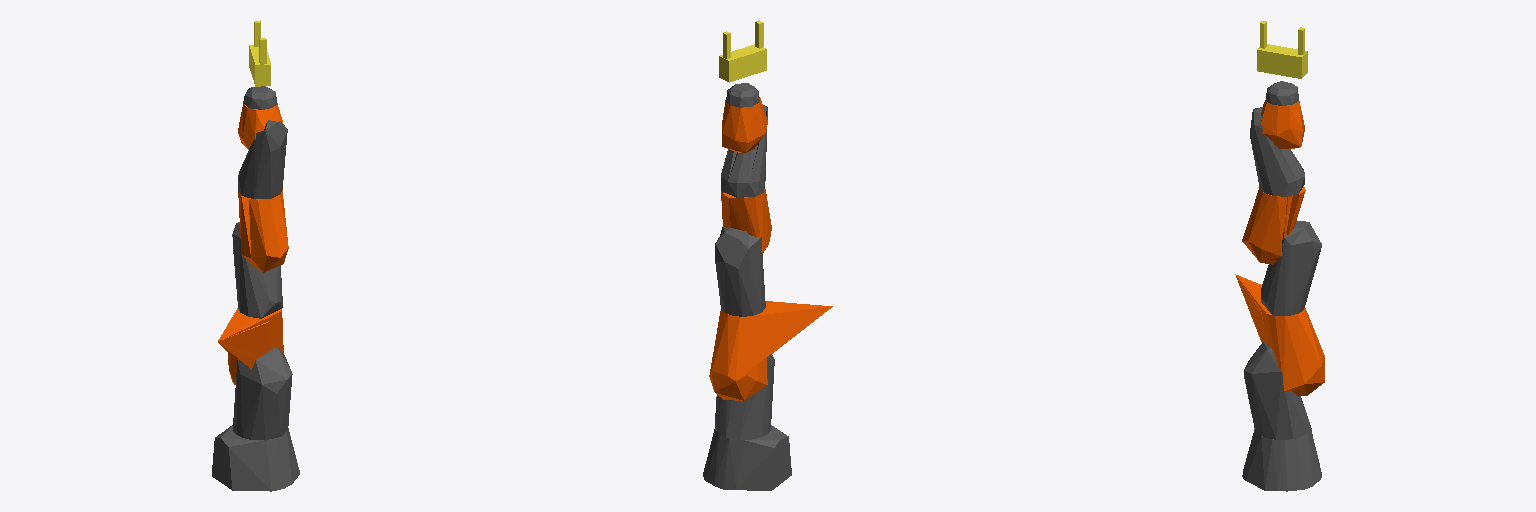
URDF robot description (iiwa14):
<?xml version="1.0" ?>
<!-- =================================================================================== -->
<!-- |    This model is a hand edited version of the original model (see               | -->
<!-- |    iiwa14_primitive_collision.urdf).                                            | -->
<!-- =================================================================================== -->
<!-- ===================================================================== -->
<!-- Collision models: complex meshes can drastically affect run time.
     Therefore some collision models are represented as simple spheres
     instead of meshes. However it's important to have accurate collision
     models for the end of the arm because we anticipate that the end is the
     most likely part of the arm to make contact.
-->
<!-- ===================================================================== -->
<robot name="iiwa14" xmlns:xacro="http://www.ros.org/wiki/xacro">
  <!-- Import Rviz colors -->
  <material name="Black">
    <color rgba="0.0 0.0 0.0 1.0"/>
  </material>
  <material name="Blue">
    <color rgba="0.0 0.0 0.8 1.0"/>
  </material>
  <material name="Green">
    <color rgba="0.0 0.8 0.0 1.0"/>
  </material>
  <material name="Grey">
    <color rgba="0.4 0.4 0.4 1.0"/>
  </material>
  <material name="Orange">
    <color rgba="1.0 0.423529411765 0.0392156862745 1.0"/>
  </material>
  <material name="Brown">
    <color rgba="0.870588235294 0.811764705882 0.764705882353 1.0"/>
  </material>
  <material name="Red">
    <color rgba="0.8 0.0 0.0 1.0"/>
  </material>
  <material name="White">
    <color rgba="1.0 1.0 1.0 1.0"/>
  </material>
  <!-- Defines a base link that will serve as the model's root. -->
  <link name="base"/>
  <!--joint between {parent} and link_0-->
  <joint name="iiwa_base_joint" type="fixed">
    <origin rpy="0 0 0" xyz="0 0 0"/>
    <parent link="base"/>
    <child link="iiwa_link_0"/>
  </joint>
  <link name="iiwa_link_0">
    <inertial>
      <origin rpy="0 0 0" xyz="-0.1 0 0.07"/>
      <mass value="5"/>
      <inertia ixx="0.05" ixy="0" ixz="0" iyy="0.06" iyz="0" izz="0.03"/>
    </inertial>
    <visual>
      <origin rpy="0 0 0" xyz="0 0 0"/>
      <geometry>
        <mesh filename="../meshes/visual/link_0.obj"/>
      </geometry>
      <material name="Grey"/>
    </visual>
    <collision>
      <origin rpy="0 0 0" xyz="-0.015 0 0.07"/>
      <geometry>
        <cylinder length="0.17" radius="0.139"/>
      </geometry>
      <material name="Grey"/>
    </collision>
    <self_collision_checking>
      <origin rpy="0 0 0" xyz="0 0 0"/>
      <geometry>
        <capsule length="0.25" radius="0.15"/>
      </geometry>
    </self_collision_checking>
  </link>
  <!-- joint between link_0 and link_1 -->
  <joint name="iiwa_joint_1" type="revolute">
    <parent link="iiwa_link_0"/>
    <child link="iiwa_link_1"/>
    <origin rpy="0 0 0" xyz="0 0 0.1575"/>
    <axis xyz="0 0 1"/>
    <limit effort="300" lower="-2.96705972839" upper="2.96705972839" velocity="10"/>
    <safety_controller k_position="100" k_velocity="2" soft_lower_limit="-2.93215314335" soft_upper_limit="2.93215314335"/>
    <dynamics damping="0.5"/>
  </joint>
  <link name="iiwa_link_1">
    <inertial>
      <origin rpy="0 0 0" xyz="0 -0.03 0.12"/>
      <mass value="5.76"/>
      <inertia ixx="0.033" ixy="0" ixz="0" iyy="0.0333" iyz="0" izz="0.0123"/>
    </inertial>
    <visual>
      <origin rpy="0 0 0" xyz="0 0 0"/>
      <geometry>
        <mesh filename="../meshes/visual/link_1.obj"/>
      </geometry>
      <material name="Grey"/>
    </visual>
    <collision>
      <origin rpy="0 0 0" xyz="0 -0.03344534434 0.1974815417"/>
      <geometry>
        <sphere radius="0.07959901601"/>
      </geometry>
      <material name="Grey"/>
    </collision>
  </link>
  <!-- joint between link_1 and link_2 -->
  <joint name="iiwa_joint_2" type="revolute">
    <parent link="iiwa_link_1"/>
    <child link="iiwa_link_2"/>
    <origin rpy="1.57079632679   0 3.14159265359" xyz="0 0 0.2025"/>
    <axis xyz="0 0 1"/>
    <limit effort="300" lower="-2.09439510239" upper="2.09439510239" velocity="10"/>
    <safety_controller k_position="100" k_velocity="2" soft_lower_limit="-2.05948851735" soft_upper_limit="2.05948851735"/>
    <dynamics damping="0.5"/>
  </joint>
  <link name="iiwa_link_2">
    <inertial>
      <origin rpy="0 0 0" xyz="0.0003 0.059 0.042"/>
      <mass value="6.35"/>
      <!-- 3.95 kuka CAD value-->
      <!--4 Original Drake URDF value-->
      <inertia ixx="0.0305" ixy="0" ixz="0" iyy="0.0304" iyz="0" izz="0.011"/>
    </inertial>
    <visual>
      <origin rpy="0 0 0" xyz="0 0 0"/>
      <geometry>
        <mesh filename="../meshes/visual/link_2.obj"/>
      </geometry>
      <material name="Orange"/>
    </visual>
    <collision>
      <origin rpy="0 0 0" xyz="-2.488800594e-017 0.203225991 -0.002065464272"/>
      <geometry>
        <sphere radius="0.06602481863"/>
      </geometry>
      <material name="Orange"/>
    </collision>
    <collision>
      <origin rpy="0 0 0" xyz="3.940519658e-019 -0.003217678485 0.05239182903"/>
      <geometry>
        <sphere radius="0.07959901601"/>
      </geometry>
      <material name="Orange"/>
    </collision>
  </link>
  <!-- joint between link_2 and link_3 -->
  <joint name="iiwa_joint_3" type="revolute">
    <parent link="iiwa_link_2"/>
    <child link="iiwa_link_3"/>
    <origin rpy="1.57079632679 0 3.14159265359" xyz="0 0.2045 0"/>
    <axis xyz="0 0 1"/>
    <limit effort="300" lower="-2.96705972839" upper="2.96705972839" velocity="10"/>
    <safety_controller k_position="100" k_velocity="2" soft_lower_limit="-2.05948851735" soft_upper_limit="2.05948851735"/>
    <dynamics damping="0.5"/>
  </joint>
  <link name="iiwa_link_3">
    <inertial>
      <origin rpy="0 0 0" xyz="0 0.03 0.13"/>
      <mass value="3.5"/>
      <!--3.18 kuka CAD value-->
      <!--3 Original Drake URDF value-->
      <inertia ixx="0.025" ixy="0" ixz="0" iyy="0.0238" iyz="0" izz="0.0076"/>
    </inertial>
    <visual>
      <origin rpy="0 0 0" xyz="0 0 0"/>
      <geometry>
        <mesh filename="../meshes/visual/link_3.obj"/>
      </geometry>
      <material name="Grey"/>
    </visual>
    <collision>
      <origin rpy="0 0 0" xyz="7.416339176e-017 0.05241123123 0.213459395"/>
      <geometry>
        <sphere radius="0.06062598796"/>
      </geometry>
      <material name="Grey"/>
    </collision>
    <collision>
      <origin rpy="0 0 0" xyz="4.599245085e-017 -0.002046062069 0.03788349888"/>
      <geometry>
        <sphere radius="0.06602481863"/>
      </geometry>
      <material name="Grey"/>
    </collision>
    <collision>
      <origin rpy="0 0 0" xyz="5.592688496e-017 -0.001027406431 0.2148769469"/>
      <geometry>
        <sphere radius="0.06799385346"/>
      </geometry>
      <material name="Grey"/>
    </collision>
  </link>
  <!-- joint between link_3 and link_4 -->
  <joint name="iiwa_joint_4" type="revolute">
    <parent link="iiwa_link_3"/>
    <child link="iiwa_link_4"/>
    <origin rpy="1.57079632679 0 0" xyz="0 0 0.2155"/>
    <axis xyz="0 0 1"/>
    <limit effort="300" lower="-2.09439510239" upper="2.09439510239" velocity="10"/>
    <safety_controller k_position="100" k_velocity="2" soft_lower_limit="-2.05948851735" soft_upper_limit="2.05948851735"/>
    <dynamics damping="0.5"/>
  </joint>
  <link name="iiwa_link_4">
    <inertial>
      <origin rpy="0 0 0" xyz="0 0.067 0.034"/>
      <mass value="3.5"/>
      <!--2.74 kuka CAD value-->
      <!--2.7 Original Drake URDF value-->
      <inertia ixx="0.017" ixy="0" ixz="0" iyy="0.0164" iyz="0" izz="0.006"/>
    </inertial>
    <visual>
      <origin rpy="0 0 0" xyz="0 0 0"/>
      <geometry>
        <mesh filename="../meshes/visual/link_4.obj"/>
      </geometry>
      <material name="Orange"/>
    </visual>
    <collision>
      <origin rpy="0 0 0" xyz="2.212061137e-017 0.1787589211 -0.001869578351"/>
      <geometry>
        <sphere radius="0.06644602201"/>
      </geometry>
      <material name="Orange"/>
    </collision>
    <collision>
      <origin rpy="0 0 0" xyz="-6.09471084e-018 0.003913255811 0.05368034657"/>
      <geometry>
        <sphere radius="0.05993984276"/>
      </geometry>
      <material name="Orange"/>
    </collision>
  </link>
  <!-- joint between link_4 and link_5 -->
  <joint name="iiwa_joint_5" type="revolute">
    <parent link="iiwa_link_4"/>
    <child link="iiwa_link_5"/>
    <origin rpy="-1.57079632679 3.14159265359 0" xyz="0 0.1845 0"/>
    <axis xyz="0 0 1"/>
    <limit effort="300" lower="-2.96705972839" upper="2.96705972839" velocity="10"/>
    <safety_controller k_position="100" k_velocity="2" soft_lower_limit="-2.05948851735" soft_upper_limit="2.05948851735"/>
    <dynamics damping="0.5"/>
  </joint>
  <link name="iiwa_link_5">
    <inertial>
      <origin rpy="0 0 0" xyz="0.0001 0.021 0.076"/>
      <mass value="3.5"/>
      <!--1.69 kuka CAD value-->
      <!--1.7 Original Drake URDF value-->
      <inertia ixx="0.01" ixy="0" ixz="0" iyy="0.0087" iyz="0" izz="0.00449"/>
    </inertial>
    <visual>
      <origin rpy="0 0 0" xyz="0 0 0"/>
      <geometry>
        <mesh filename="../meshes/visual/link_5.obj"/>
      </geometry>
      <material name="Grey"/>
    </visual>
    <collision>
      <origin rpy="0 0 0" xyz="3.178830537e-017 0.0445161559 0.2150550559"/>
      <geometry>
        <sphere radius="0.05281876964"/>
      </geometry>
      <material name="Grey"/>
    </collision>
    <collision>
      <origin rpy="0 0 0" xyz="3.716540503e-018 9.478746123e-005 0.0302530688"/>
      <geometry>
        <sphere radius="0.06644602201"/>
      </geometry>
      <material name="Grey"/>
    </collision>
  </link>
  <!-- joint between link_5 and link_6 -->
  <joint name="iiwa_joint_6" type="revolute">
    <parent link="iiwa_link_5"/>
    <child link="iiwa_link_6"/>
    <origin rpy="1.57079632679 0 0" xyz="0 0 0.2155"/>
    <axis xyz="0 0 1"/>
    <limit effort="300" lower="-2.09439510239" upper="2.09439510239" velocity="10"/>
    <safety_controller k_position="100" k_velocity="2" soft_lower_limit="-2.05948851735" soft_upper_limit="2.05948851735"/>
    <dynamics damping="0.5"/>
  </joint>
  <link name="iiwa_link_6">
    <inertial>
      <origin rpy="0 0 0" xyz="0 0.0006 0.0004"/>
      <mass value="1.8"/>
      <!--1.8 kuka CAD value-->
      <!--1.8 Original Drake URDF value-->
      <inertia ixx="0.0049" ixy="0" ixz="0" iyy="0.0047" iyz="0" izz="0.0036"/>
    </inertial>
    <visual>
      <origin rpy="0 0 0" xyz="0 0 0"/>
      <geometry>
        <mesh filename="../meshes/visual/link_6.obj"/>
      </geometry>
      <material name="Orange"/>
    </visual>
    <collision>
      <origin rpy="0 0 0" xyz="-2.904627567e-018 -0.01623589495 0.00748218906"/>
      <geometry>
        <sphere radius="0.06341754633"/>
      </geometry>
      <material name="Orange"/>
    </collision>
  </link>
  <!-- joint between link_6 and link_7 -->
  <joint name="iiwa_joint_7" type="revolute">
    <parent link="iiwa_link_6"/>
    <child link="iiwa_link_7"/>
    <origin rpy="-1.57079632679 3.14159265359 0" xyz="0 0.081 0"/>
    <axis xyz="0 0 1"/>
    <limit effort="300" lower="-3.05432619099" upper="3.05432619099" velocity="10"/>
    <safety_controller k_position="100" k_velocity="2" soft_lower_limit="-3.01941960595" soft_upper_limit="3.01941960595"/>
    <dynamics damping="0.5"/>
  </joint>
  <link name="iiwa_link_7">
    <inertial>
      <origin rpy="0 0 0" xyz="0 0 0.02"/>
      <mass value="1.2"/>
      <!--0.31 kuka CAD value-->
      <!--0.3 Original Drake URDF value-->
      <inertia ixx="0.001" ixy="0" ixz="0" iyy="0.001" iyz="0" izz="0.001"/>
    </inertial>
    <visual>
      <origin rpy="0 0 0" xyz="0 0 0"/>
      <geometry>
        <mesh filename="../meshes/visual/link_7.obj"/>
      </geometry>
      <material name="Grey"/>
    </visual>
    <collision>
      <origin rpy="0 0 0" xyz="-3.533832164e-019 -0.001260393754 -0.001625199191"/>
      <geometry>
        <sphere radius="0.05285650291"/>
      </geometry>
      <material name="Grey"/>
    </collision>
  </link>
  <joint name="iiwa_joint_ee" type="fixed">
    <parent link="iiwa_link_7"/>
    <child link="iiwa_link_ee_kuka"/>
    <origin rpy="3.14159265359 3.14159265359 3.14159265359" xyz="0 0 0.045"/>
    <axis xyz="0 0 1"/>
  </joint>
  <link name="iiwa_link_ee_kuka">
    </link>
  <joint name="tool0_joint" type="fixed">
    <parent link="iiwa_link_7"/>
    <child link="iiwa_link_ee"/>
    <origin rpy="0 -1.57079632679 0" xyz="0 0 0.045"/>
  </joint>
  <link name="iiwa_link_ee">
    </link>
  <frame link="iiwa_link_ee" name="iiwa_frame_ee" rpy="3.14159265359 0 1.57079632679" xyz="0.09 0 0"/>
  <link name="gripper">
    <!--body-->
    <visual>
      <origin rpy="0 0 0" xyz="-0.049133 0 0"/>
      <geometry>
        <box size="0.0725 0.146 0.049521"/>
      </geometry>
    </visual>
    <!--left finger-->
    <visual>
      <origin rpy="0 0 0" xyz="0.029 -0.063 0"/>
      <geometry>
        <box size="0.083 0.016 0.02"/>
      </geometry>
    </visual>
    <!--right finger-->
    <visual>
      <origin rpy="0 0 0" xyz="0.029 0.063 0"/>
      <geometry>
        <box size="0.083 0.016 0.02"/>
      </geometry>
    </visual>
    <!--body-->
    <collision group="gripper_finger">
      <origin rpy="0 0 0" xyz="-0.049133 0 0"/>
      <geometry>
        <box size="0.0725 0.146 0.049521"/>
      </geometry>
    </collision>
    <!--left finger-->
    <collision group="gripper_finger">
      <origin rpy="0 0 0" xyz="0.029 -0.063 0"/>
      <geometry>
        <box size="0.083 0.016 0.02"/>
      </geometry>
    </collision>
    <!--right finger-->
    <collision group="gripper_finger">
      <origin rpy="0 0 0" xyz="0.029 0.063 0"/>
      <geometry>
        <box size="0.083 0.016 0.02"/>
      </geometry>
    </collision>
  </link>
  <joint name="gripper_joint" type="fixed">
    <parent link="iiwa_link_ee"/>
    <child link="gripper"/>
    <origin rpy="-0.39269908 0 0" xyz="0.13 0 0"/>
  </joint>
  <!-- Load Gazebo lib and set the robot namespace -->
  <gazebo>
    <plugin filename="libgazebo_ros_control.so" name="gazebo_ros_controller">
      <robotNamespace>/iiwa</robotNamespace>
    </plugin>
  </gazebo>
  <!-- Link0 -->
  <gazebo reference="iiwa_link_0">
    <material>Gazebo/Grey</material>
    <mu1>0.2</mu1>
    <mu2>0.2</mu2>
  </gazebo>
  <!-- Link1 -->
  <gazebo reference="iiwa_link_1">
    <material>Gazebo/Orange</material>
    <mu1>0.2</mu1>
    <mu2>0.2</mu2>
  </gazebo>
  <!-- Link2 -->
  <gazebo reference="iiwa_link_2">
    <material>Gazebo/Orange</material>
    <mu1>0.2</mu1>
    <mu2>0.2</mu2>
  </gazebo>
  <!-- Link3 -->
  <gazebo reference="iiwa_link_3">
    <material>Gazebo/Orange</material>
    <mu1>0.2</mu1>
    <mu2>0.2</mu2>
  </gazebo>
  <!-- Link4 -->
  <gazebo reference="iiwa_link_4">
    <material>Gazebo/Orange</material>
    <mu1>0.2</mu1>
    <mu2>0.2</mu2>
  </gazebo>
  <!-- Link5 -->
  <gazebo reference="iiwa_link_5">
    <material>Gazebo/Orange</material>
    <mu1>0.2</mu1>
    <mu2>0.2</mu2>
  </gazebo>
  <!-- Link6 -->
  <gazebo reference="iiwa_link_6">
    <material>Gazebo/Orange</material>
    <mu1>0.2</mu1>
    <mu2>0.2</mu2>
  </gazebo>
  <!-- Link7 -->
  <gazebo reference="iiwa_link_7">
    <material>Gazebo/Grey</material>
    <mu1>0.2</mu1>
    <mu2>0.2</mu2>
  </gazebo>
  <transmission name="iiwa_tran_1">
    <robotNamespace>/iiwa</robotNamespace>
    <type>transmission_interface/SimpleTransmission</type>
    <joint name="iiwa_joint_1">
      <hardwareInterface>PositionJointInterface</hardwareInterface>
    </joint>
    <actuator name="iiwa_motor_1">
      <hardwareInterface>PositionJointInterface</hardwareInterface>
      <mechanicalReduction>1</mechanicalReduction>
    </actuator>
  </transmission>
  <transmission name="iiwa_tran_2">
    <robotNamespace>/iiwa</robotNamespace>
    <type>transmission_interface/SimpleTransmission</type>
    <joint name="iiwa_joint_2">
      <hardwareInterface>PositionJointInterface</hardwareInterface>
    </joint>
    <actuator name="iiwa_motor_2">
      <hardwareInterface>PositionJointInterface</hardwareInterface>
      <mechanicalReduction>1</mechanicalReduction>
    </actuator>
  </transmission>
  <transmission name="iiwa_tran_3">
    <robotNamespace>/iiwa</robotNamespace>
    <type>transmission_interface/SimpleTransmission</type>
    <joint name="iiwa_joint_3">
      <hardwareInterface>PositionJointInterface</hardwareInterface>
    </joint>
    <actuator name="iiwa_motor_3">
      <hardwareInterface>PositionJointInterface</hardwareInterface>
      <mechanicalReduction>1</mechanicalReduction>
    </actuator>
  </transmission>
  <transmission name="iiwa_tran_4">
    <robotNamespace>/iiwa</robotNamespace>
    <type>transmission_interface/SimpleTransmission</type>
    <joint name="iiwa_joint_4">
      <hardwareInterface>PositionJointInterface</hardwareInterface>
    </joint>
    <actuator name="iiwa_motor_4">
      <hardwareInterface>PositionJointInterface</hardwareInterface>
      <mechanicalReduction>1</mechanicalReduction>
    </actuator>
  </transmission>
  <transmission name="iiwa_tran_5">
    <robotNamespace>/iiwa</robotNamespace>
    <type>transmission_interface/SimpleTransmission</type>
    <joint name="iiwa_joint_5">
      <hardwareInterface>PositionJointInterface</hardwareInterface>
    </joint>
    <actuator name="iiwa_motor_5">
      <hardwareInterface>PositionJointInterface</hardwareInterface>
      <mechanicalReduction>1</mechanicalReduction>
    </actuator>
  </transmission>
  <transmission name="iiwa_tran_6">
    <robotNamespace>/iiwa</robotNamespace>
    <type>transmission_interface/SimpleTransmission</type>
    <joint name="iiwa_joint_6">
      <hardwareInterface>PositionJointInterface</hardwareInterface>
    </joint>
    <actuator name="iiwa_motor_6">
      <hardwareInterface>PositionJointInterface</hardwareInterface>
      <mechanicalReduction>1</mechanicalReduction>
    </actuator>
  </transmission>
  <transmission name="iiwa_tran_7">
    <robotNamespace>/iiwa</robotNamespace>
    <type>transmission_interface/SimpleTransmission</type>
    <joint name="iiwa_joint_7">
      <hardwareInterface>PositionJointInterface</hardwareInterface>
    </joint>
    <actuator name="iiwa_motor_7">
      <hardwareInterface>PositionJointInterface</hardwareInterface>
      <mechanicalReduction>1</mechanicalReduction>
    </actuator>
  </transmission>
  <collision_filter_group name="wrist">
    <member link="iiwa_link_5"/>
    <member link="iiwa_link_6"/>
    <member link="iiwa_link_7"/>
    <member link="gripper"/>
    <ignored_collision_filter_group collision_filter_group="wrist"/>
  </collision_filter_group>
</robot>

--- Facts derived from the render (not from the file) ---
Views: 3 orthographic renders of the robot side by side, from view 1: azimuth 30°, elevation 25°; view 2: azimuth 150°, elevation 25°; view 3: azimuth 270°, elevation 25°.
Model iiwa14 with 12 links and 11 joints (7 revolute, 4 fixed), rooted at base, posed every joint at zero.
Links seen in each view (by area): view 1: iiwa_link_1, iiwa_link_0, iiwa_link_4, iiwa_link_5, iiwa_link_2, iiwa_link_3, iiwa_link_6, gripper, iiwa_link_7; view 2: iiwa_link_2, iiwa_link_0, iiwa_link_3, iiwa_link_1, iiwa_link_5, iiwa_link_6, iiwa_link_4, gripper, iiwa_link_7; view 3: iiwa_link_2, iiwa_link_1, iiwa_link_0, iiwa_link_3, iiwa_link_4, iiwa_link_5, gripper, iiwa_link_6, iiwa_link_7.
Link boxes in pixels (bbox=[...]): iiwa_link_1: bbox=[233, 347, 292, 440]; iiwa_link_0: bbox=[212, 425, 299, 491]; iiwa_link_4: bbox=[238, 190, 288, 272]; iiwa_link_5: bbox=[238, 120, 287, 198]; iiwa_link_2: bbox=[218, 308, 283, 384]; iiwa_link_3: bbox=[232, 222, 282, 318]; iiwa_link_6: bbox=[238, 103, 282, 149]; gripper: bbox=[249, 20, 270, 86]; iiwa_link_7: bbox=[243, 86, 276, 109]; iiwa_link_2: bbox=[709, 301, 832, 400]; iiwa_link_0: bbox=[703, 425, 791, 490]; iiwa_link_3: bbox=[715, 227, 765, 316]; iiwa_link_1: bbox=[715, 354, 774, 439]; iiwa_link_5: bbox=[721, 105, 767, 197]; iiwa_link_6: bbox=[722, 98, 767, 152]; iiwa_link_4: bbox=[721, 189, 771, 252]; gripper: bbox=[719, 20, 766, 82]; iiwa_link_7: bbox=[726, 83, 759, 107]; iiwa_link_2: bbox=[1235, 274, 1324, 395]; iiwa_link_1: bbox=[1244, 342, 1311, 439]; iiwa_link_0: bbox=[1242, 429, 1321, 491]; iiwa_link_3: bbox=[1261, 221, 1321, 315]; iiwa_link_4: bbox=[1242, 186, 1305, 264]; iiwa_link_5: bbox=[1250, 107, 1304, 196]; gripper: bbox=[1257, 21, 1307, 78]; iiwa_link_6: bbox=[1260, 100, 1304, 149]; iiwa_link_7: bbox=[1266, 81, 1298, 105].
Bounding box of the posed robot: 0.3562 × 0.2729 × 1.51 m (x, y, z).
Meshes: 8 distinct files referenced, 8 mesh visuals loaded (8 OBJ).